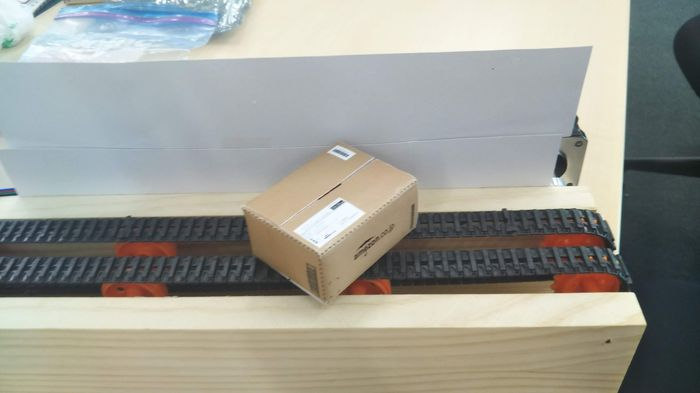box1: (238, 137, 420, 305)
